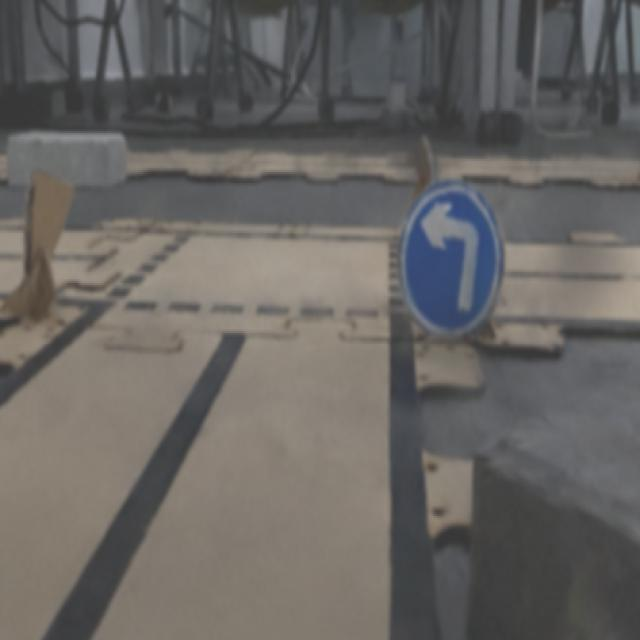LEFT: (399, 179, 503, 337)
